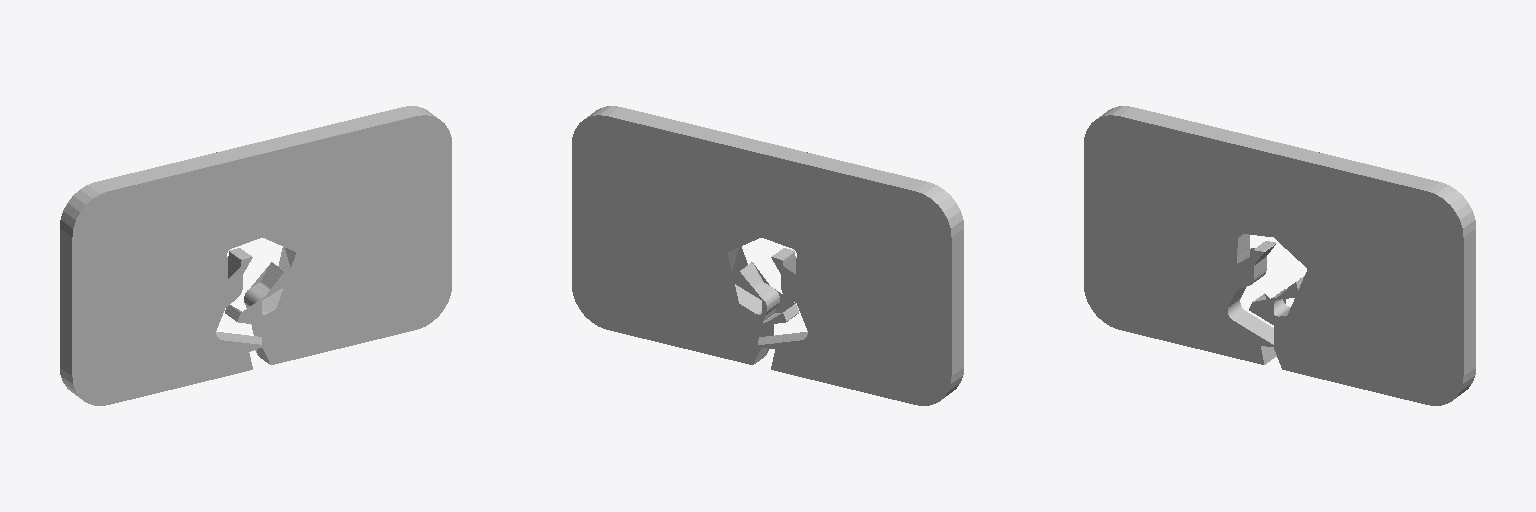
The picture shows the model from 3 angles: view 1: azimuth 30°, elevation 25°; view 2: azimuth 150°, elevation 25°; view 3: azimuth 330°, elevation 25°; orthographic projection.
Parts seen in each view (by area): view 1: POSE3; view 2: POSE3; view 3: POSE3.
Part boxes in pixels (left/top/right/bottom): POSE3: left=60, top=106, right=451, bottom=405; POSE3: left=572, top=106, right=963, bottom=405; POSE3: left=1084, top=106, right=1475, bottom=405.
Size of the model in its own units: 12 by 6.45 by 0.7.